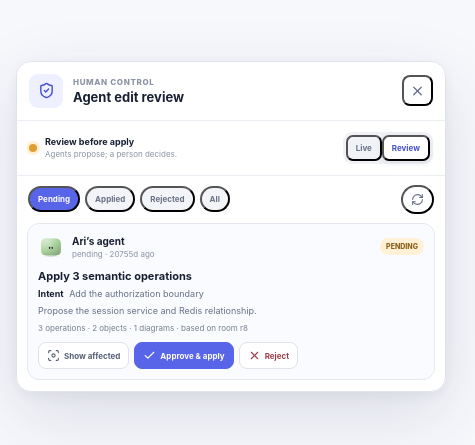
Scenario: ReviewPanel › retains an approval conflict when background queue refresh succeeds
Expected: the text "Ari’s agent" is shown, [72,235,125,247]
Click the button "Approve & apply": coordinates (184, 356) [134,342,234,369]
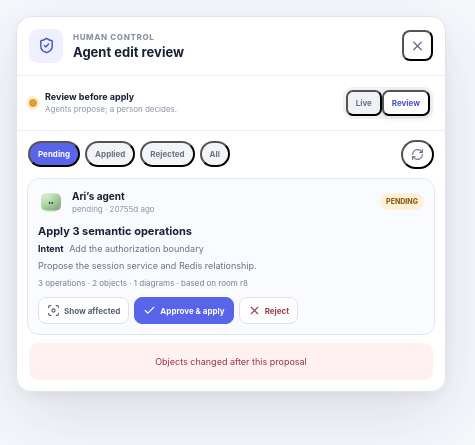
Expected: the button "Reject" is enabled, [239,297,298,324]
Now the message reads "Objects changed after this proposal", box [155,356,307,367]
